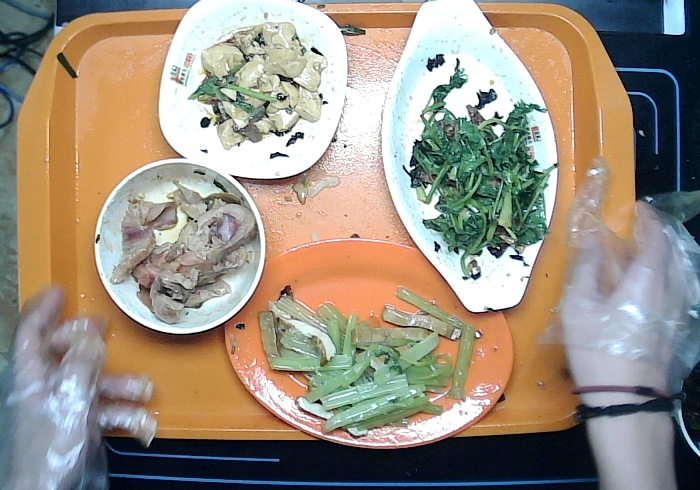NLDX-Bai_Se_Xiao_Fang_Die: (156, 1, 350, 180)
NLDX-Fan_Wan: (92, 156, 267, 335)
NLDX-Ju_Se_Pan: (222, 236, 516, 451)
NLDX-Yu_Pan: (380, 1, 560, 313)
